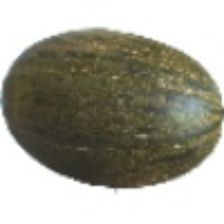honeydew: (22, 12, 196, 177)
